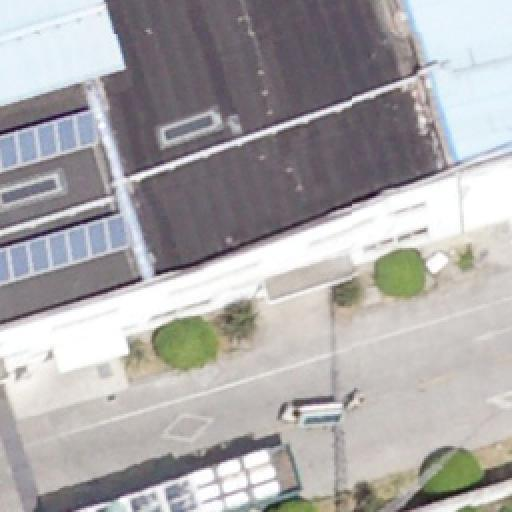solar-panel: (0, 215, 132, 281), (1, 109, 103, 171)
